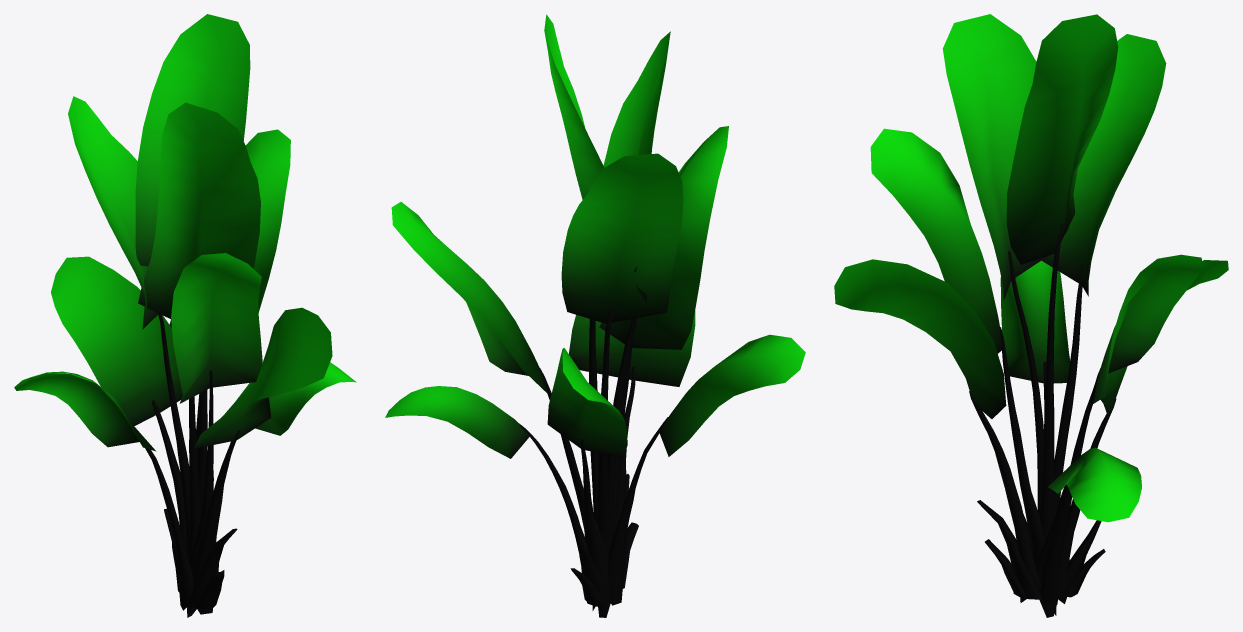
3 views of the same model, side by side, from view 1: azimuth 30°, elevation 25°; view 2: azimuth 150°, elevation 25°; view 3: azimuth 270°, elevation 25° (orthographic). The views are drawn at different scales.
Visible parts, largest first — view 1: SM_TR_Ravenala_4m_HD; view 2: SM_TR_Ravenala_4m_HD; view 3: SM_TR_Ravenala_4m_HD.
Part boxes in pixels (x1=…): SM_TR_Ravenala_4m_HD: x1=14, y1=14, x2=356, y2=617; SM_TR_Ravenala_4m_HD: x1=385, y1=14, x2=805, y2=617; SM_TR_Ravenala_4m_HD: x1=834, y1=14, x2=1228, y2=617.
Bounding box in the file's own units: 87.47 × 101 × 152.
